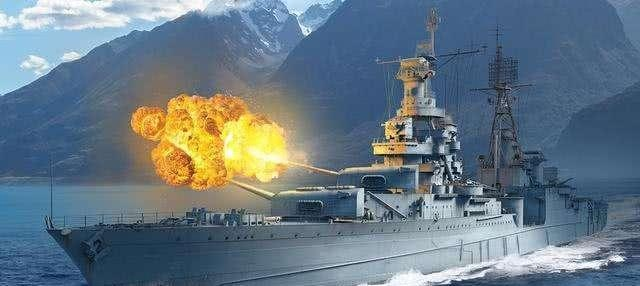warship: (40, 10, 612, 284)
